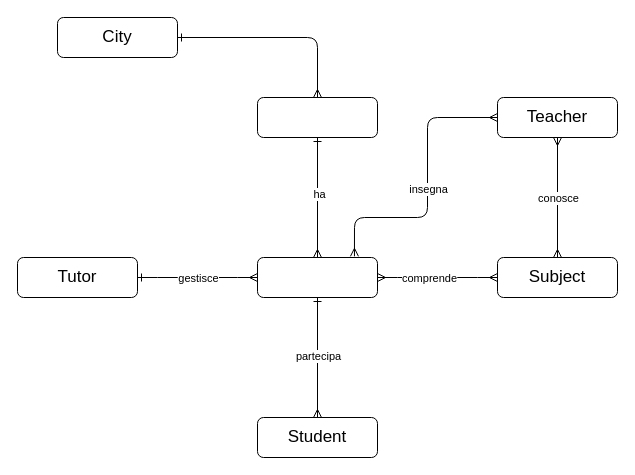
Image size: 635x475. Some labels were removed from this diagram. Each missing label, with the centre of its shape:
Course: the point at 317,277
Site: the point at 317,117
